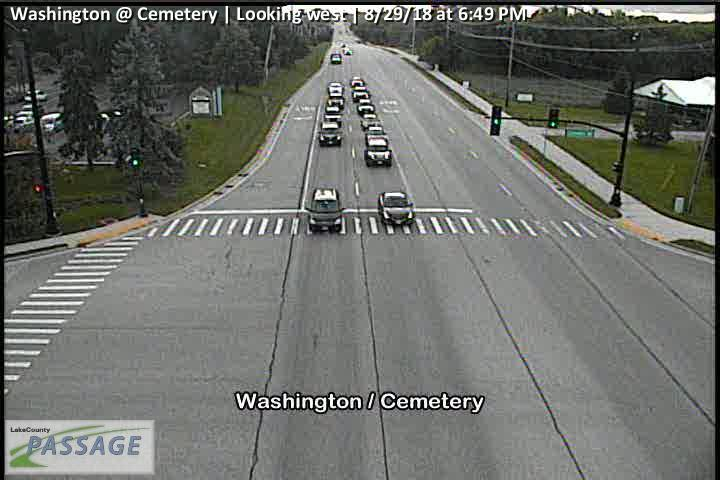SUV: (304, 186, 346, 234), (363, 146, 393, 169), (364, 125, 389, 148), (361, 112, 380, 130), (356, 100, 375, 112)
Sedan: (379, 191, 415, 226), (319, 123, 342, 147), (352, 87, 369, 100), (324, 107, 342, 118), (327, 96, 344, 106), (329, 81, 343, 92), (330, 53, 341, 64), (351, 76, 364, 85)
